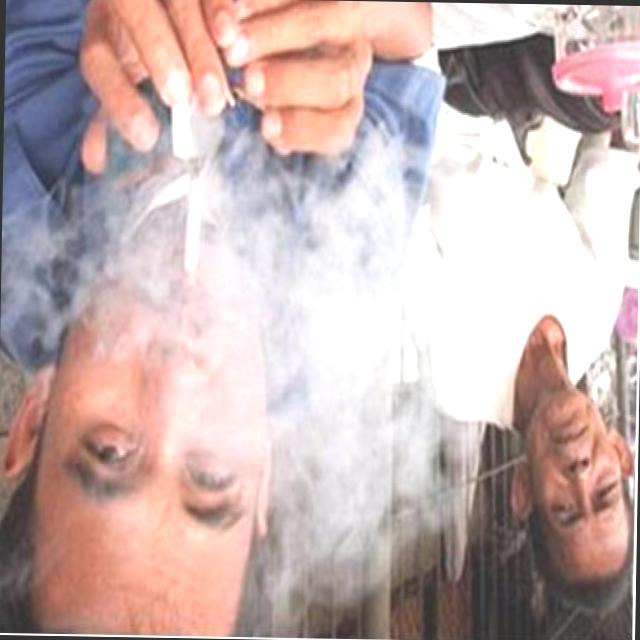smoke: (181, 168, 204, 291)
